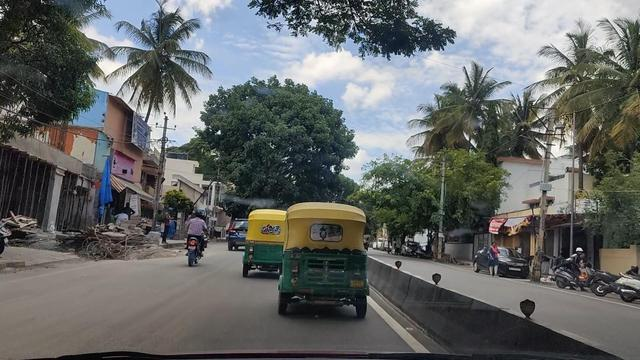LMV: (280, 204, 376, 321), (241, 215, 289, 275), (173, 204, 216, 265)
RoadDamages: (73, 310, 217, 349)
